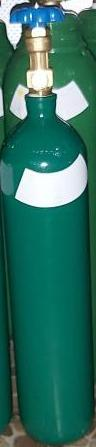cylinder: (0, 1, 96, 447)
